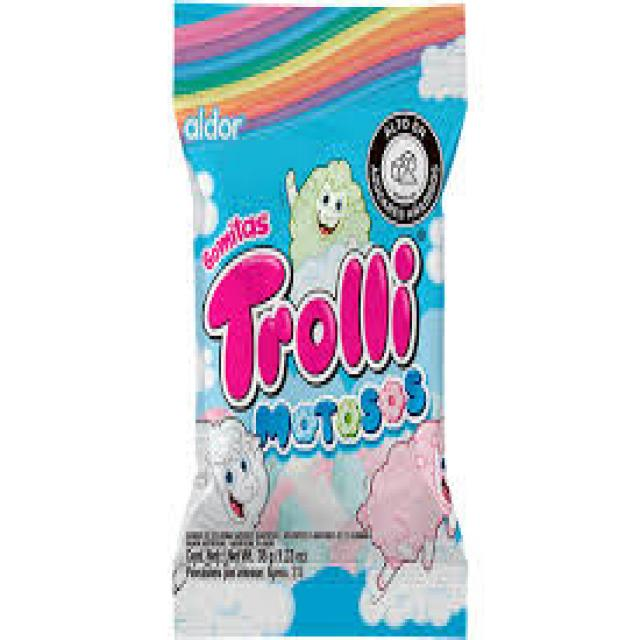Paquete: (169, 3, 473, 636)
